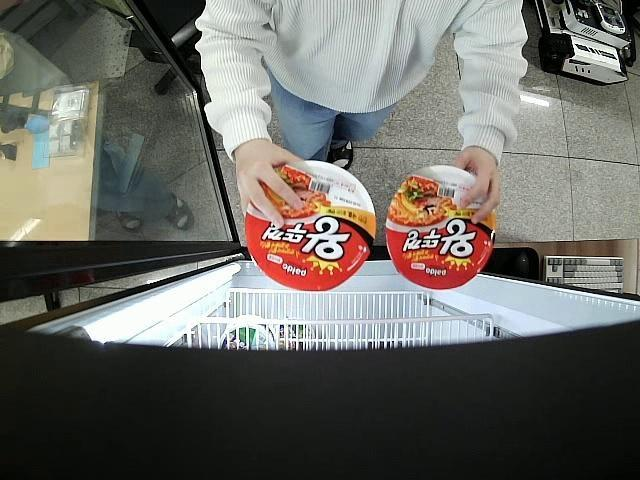10_wangTtukkeong: (246, 160, 377, 290), (388, 164, 493, 292)
